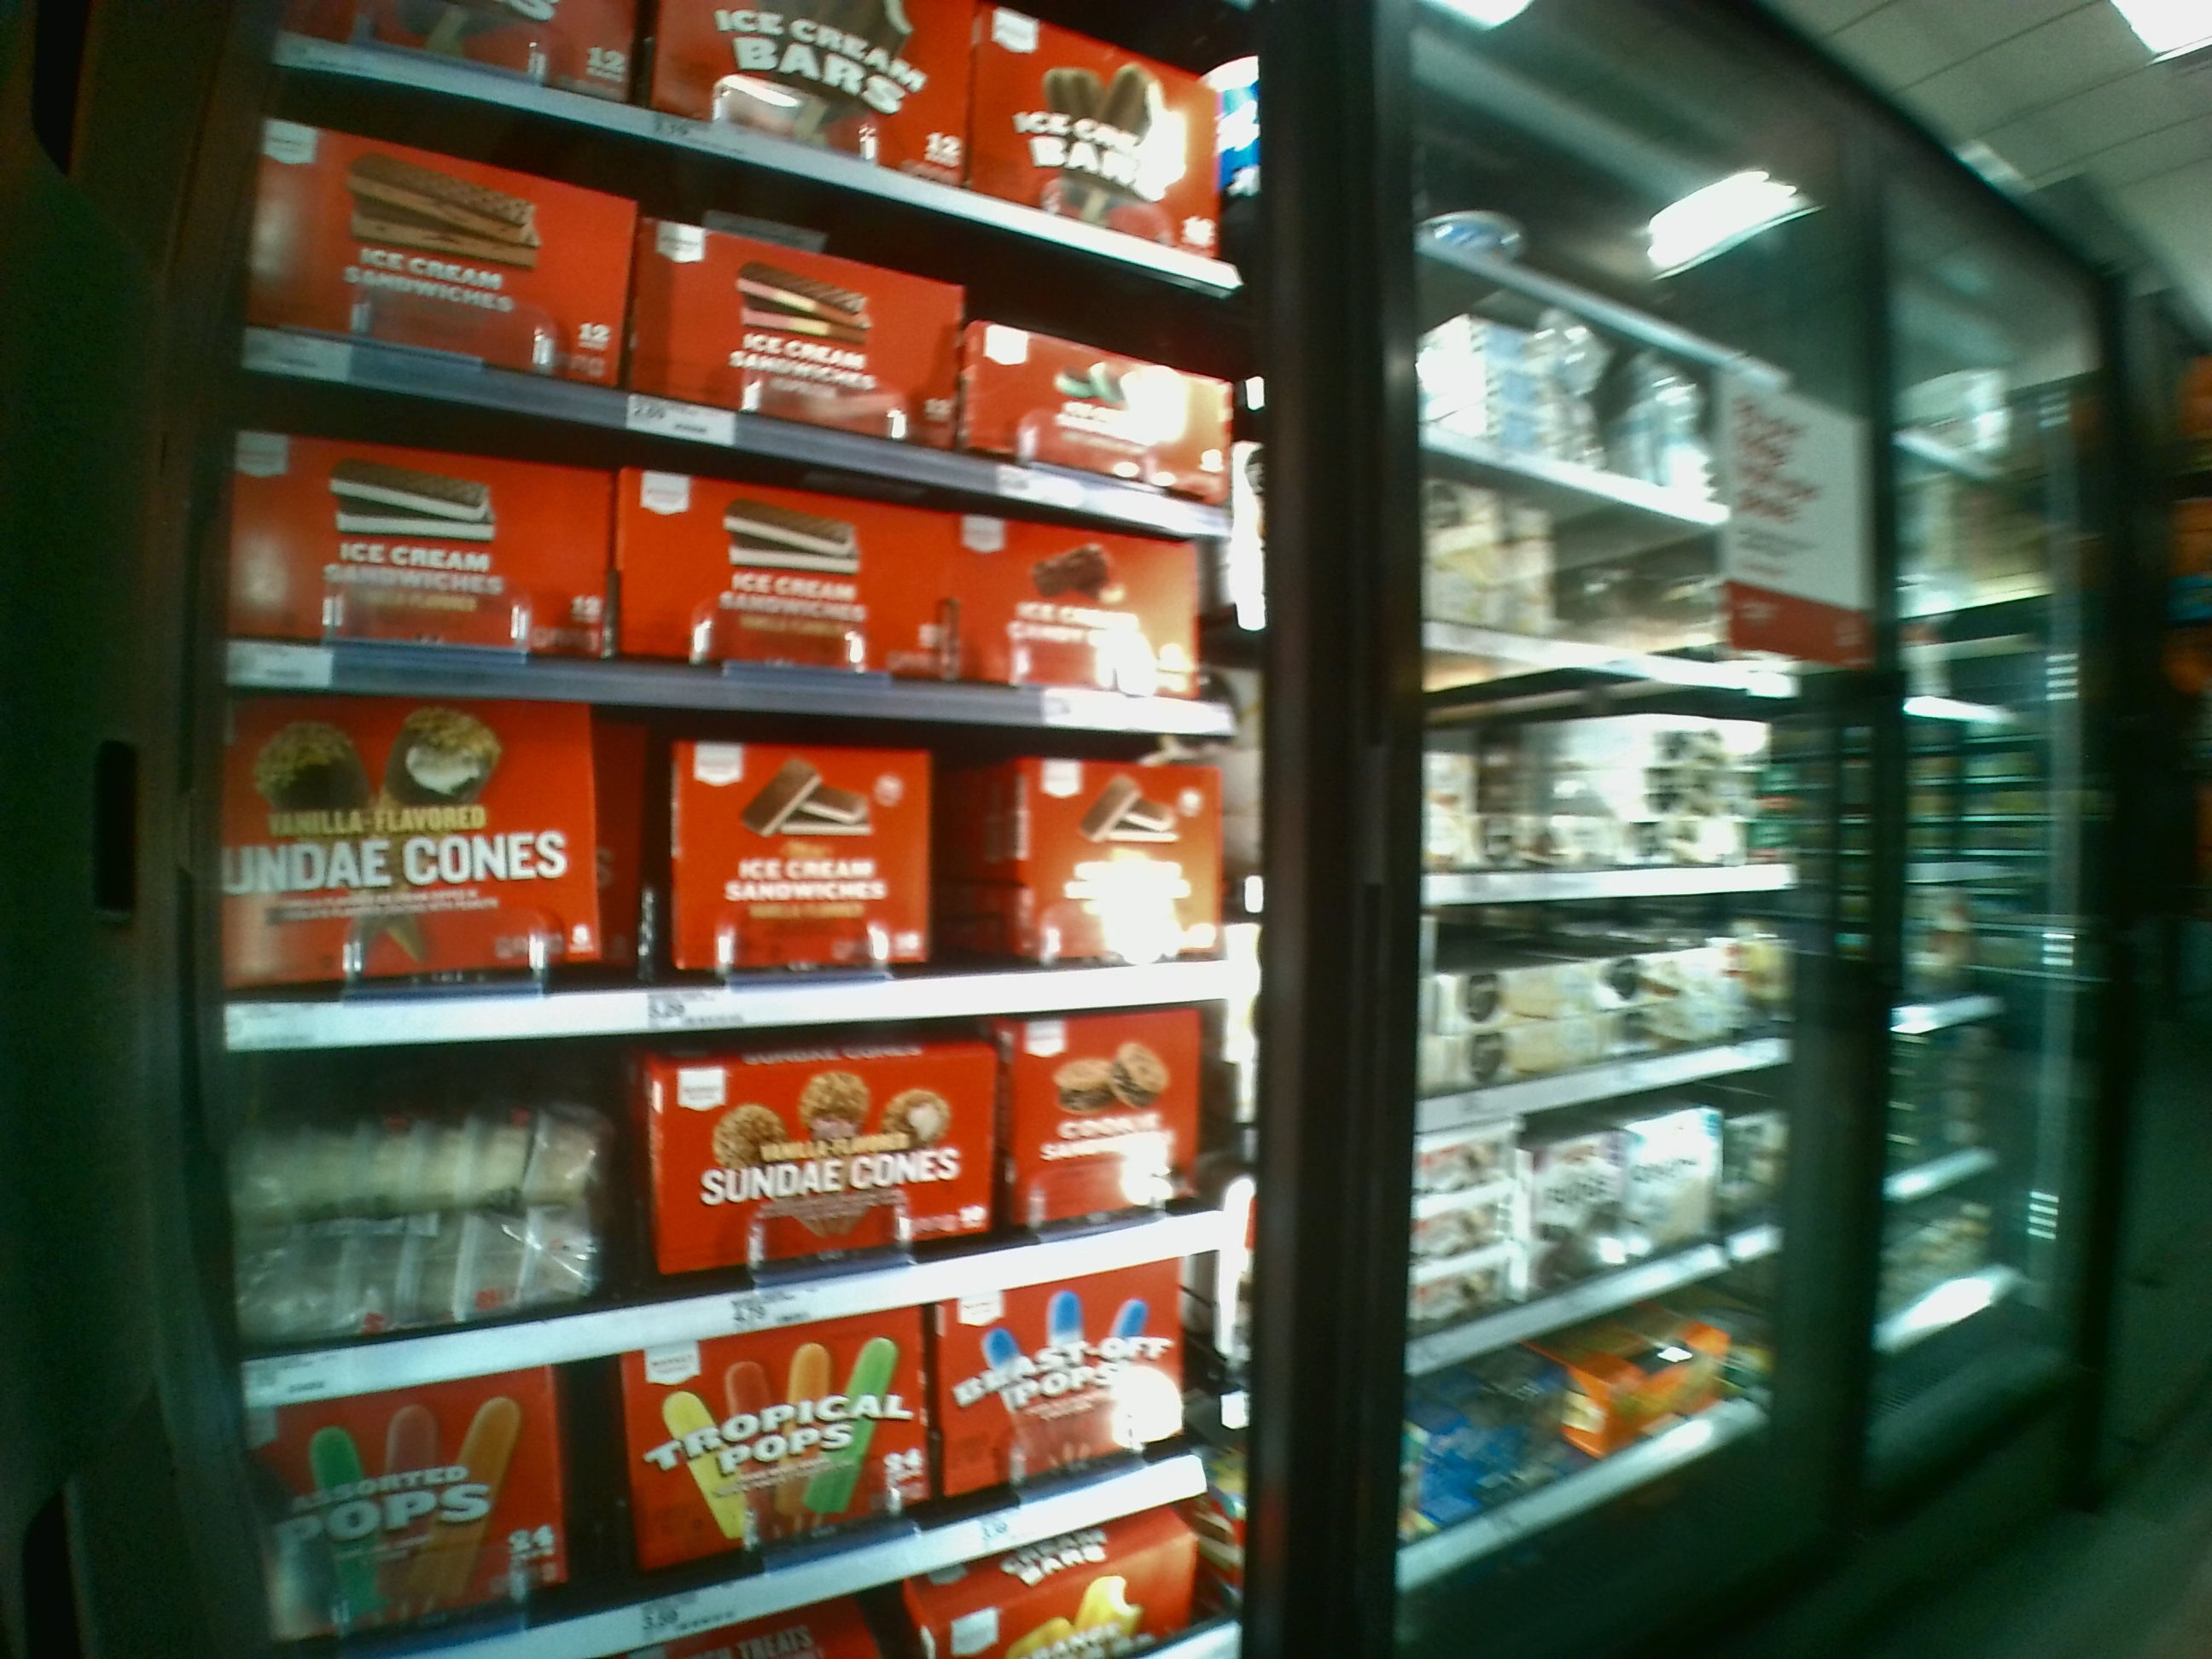shelf: (216, 706, 1264, 1019), (214, 1018, 1247, 1328), (230, 437, 1264, 709)
